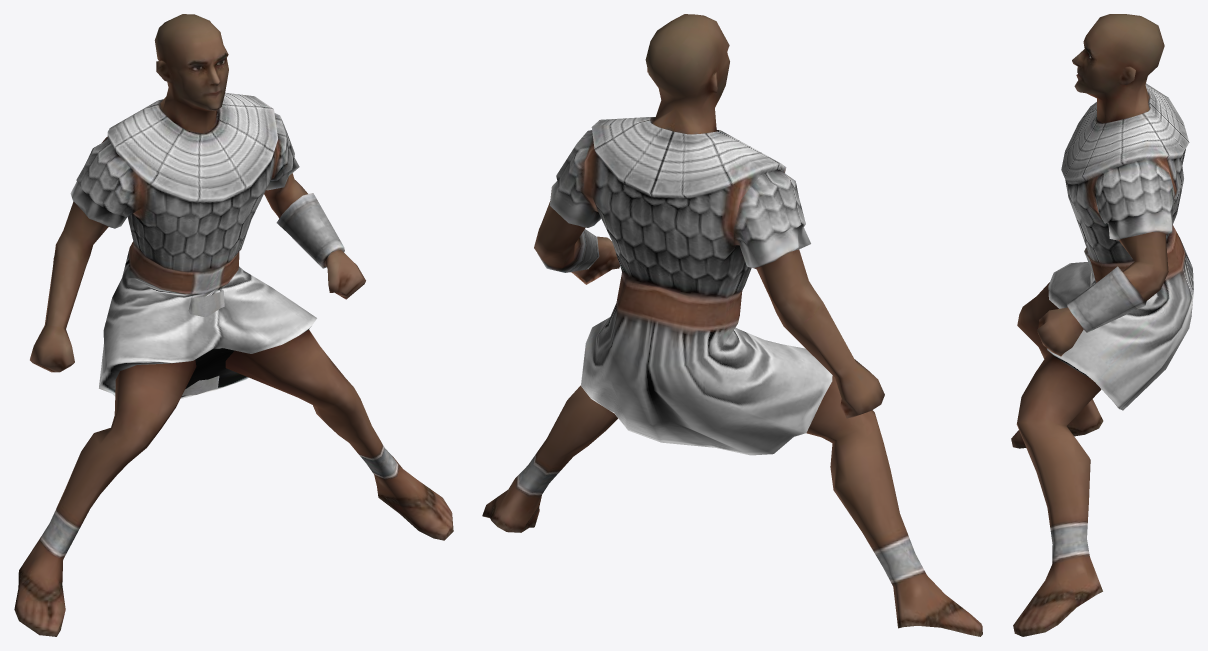
File: rider-slice-championcamelriders.glb
3 renders of one model, left to right at view 1: azimuth 30°, elevation 25°; view 2: azimuth 150°, elevation 25°; view 3: azimuth 270°, elevation 25°, orthographic. The views are drawn at different scales.
Bounding box in the file's own units: 1.55 × 1.82 × 0.5767.
Materials: 1 (1 with a texture image).
